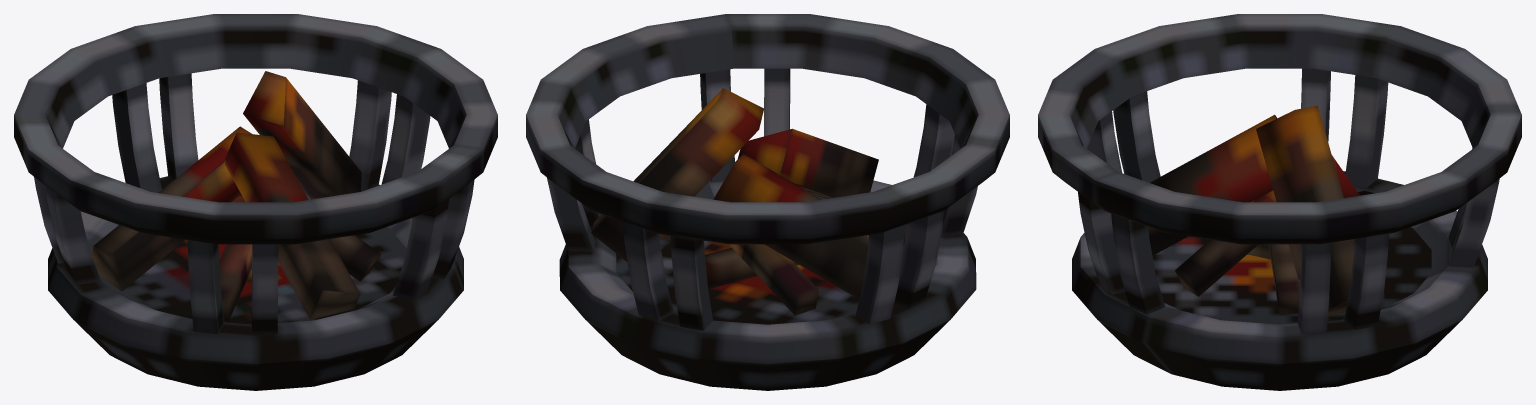
Rendered from EnvObjMD_Torch_B.FBX.
The picture shows the model from 3 angles, left to right: view 1: azimuth 30°, elevation 25°; view 2: azimuth 150°, elevation 25°; view 3: azimuth 270°, elevation 25°; orthographic projection.
Visible parts, largest first — view 1: EnvObjMD_Torch_B; view 2: EnvObjMD_Torch_B; view 3: EnvObjMD_Torch_B.
Boxes of the visible parts, box(x1,y1,x2,y2) form: EnvObjMD_Torch_B: box(14, 14, 497, 390); EnvObjMD_Torch_B: box(526, 14, 1009, 390); EnvObjMD_Torch_B: box(1038, 14, 1521, 390).
Bounding box in the file's own units: 94.32 × 50.03 × 95.77.
